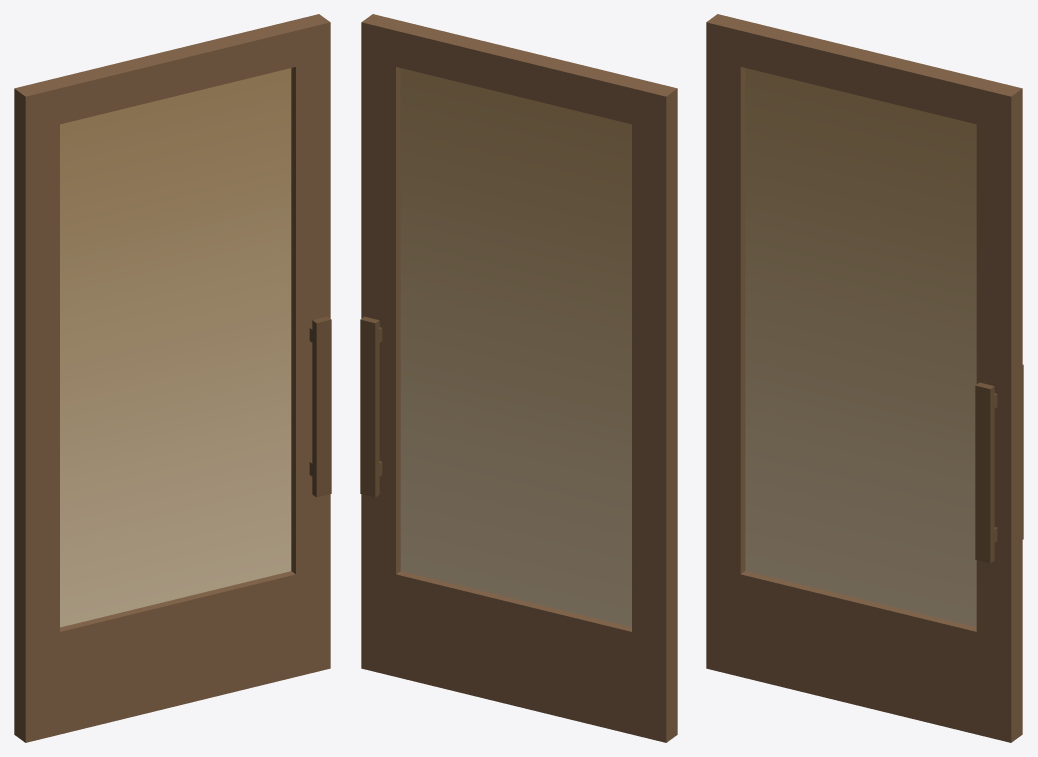
The model's file is SM_Buildings_Supermarket_01_Door_L.fbx.
The picture shows the model from 3 angles, left to right: view 1: azimuth 30°, elevation 25°; view 2: azimuth 150°, elevation 25°; view 3: azimuth 330°, elevation 25°; orthographic projection.
Parts seen in each view (by area): view 1: SM_Buildings_Supermarket_01_Door_L; view 2: SM_Buildings_Supermarket_01_Door_L; view 3: SM_Buildings_Supermarket_01_Door_L.
Part boxes in pixels (<box>): SM_Buildings_Supermarket_01_Door_L: <box>14,14,331,742</box>; SM_Buildings_Supermarket_01_Door_L: <box>360,14,677,742</box>; SM_Buildings_Supermarket_01_Door_L: <box>706,14,1023,742</box>.
Bounding box in the file's own units: 1.28 × 2.6 × 0.2427.
